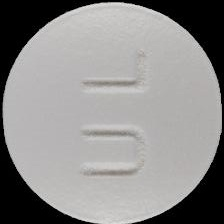50090-0799: (0, 0, 224, 224)
